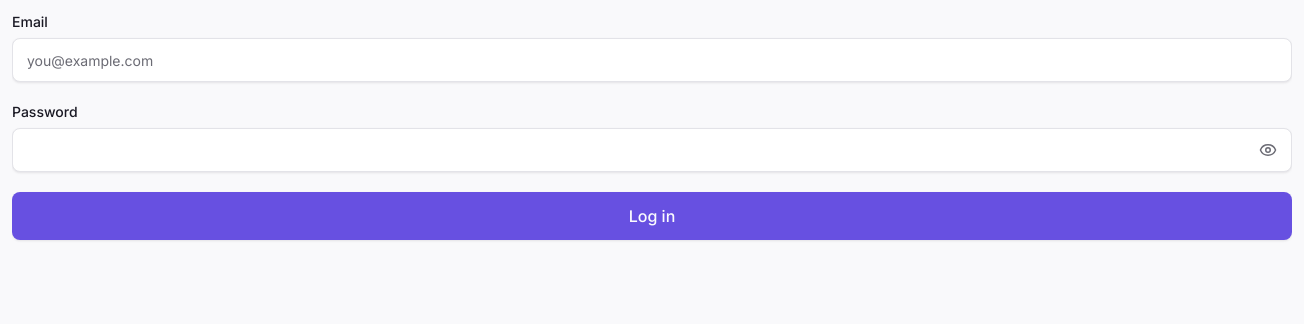
Test: LoginForm server errors › explains rate limiting using Retry-After
Type "jane@example.com" into the field labelled "Email". click: point(652, 60)
box: [12,38,1292,82]
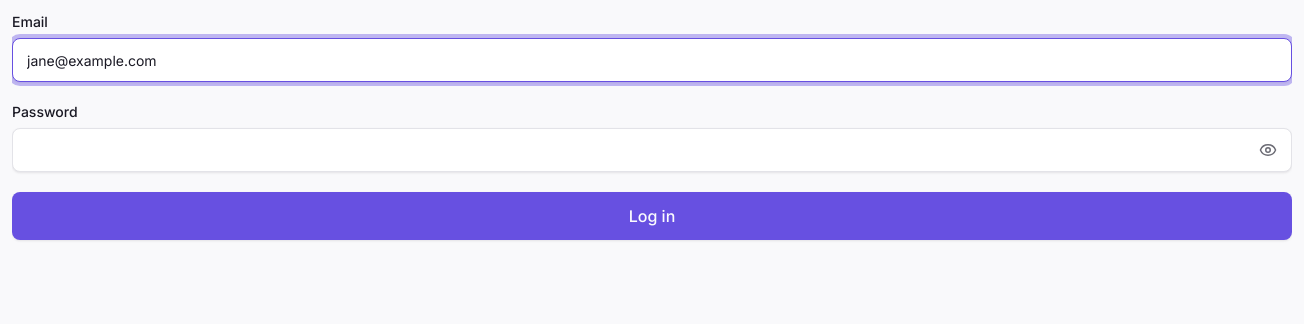
Type "long-enough-password" into the password field labelled "Password". click: point(652, 150)
box: [12,128,1292,172]
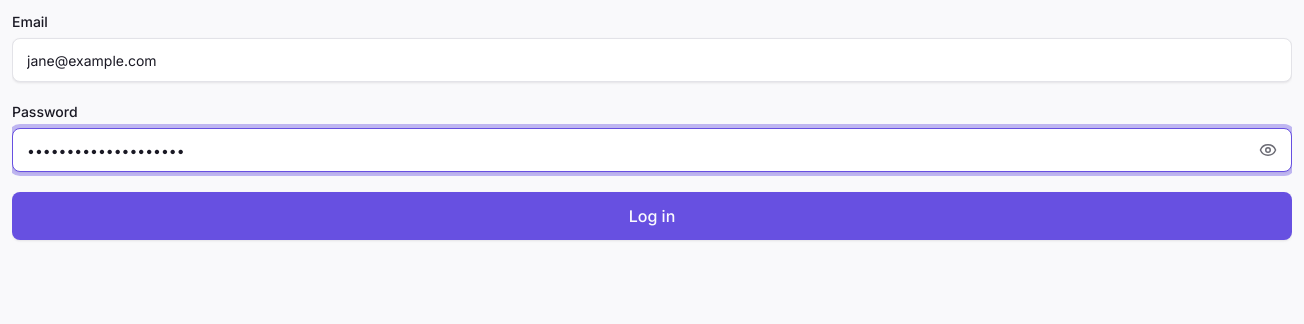
Click the button "Log in". click: point(652, 216)
box: [12,192,1292,240]
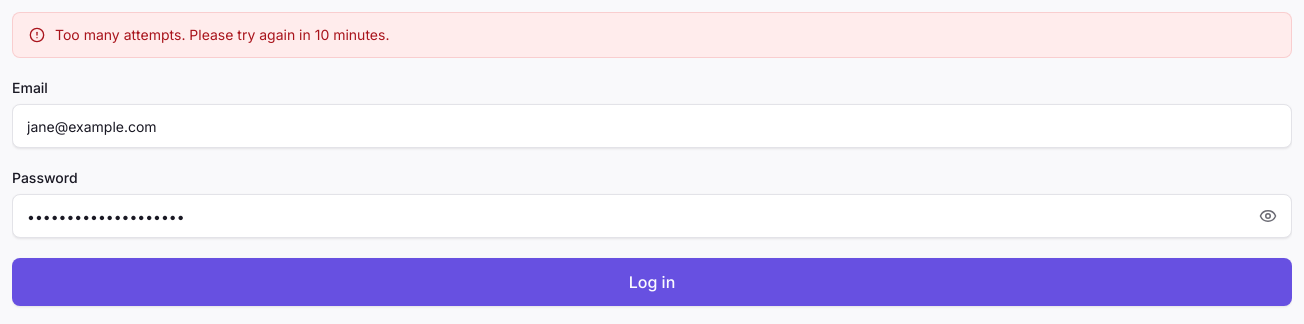
Expected: the message reads "Too many attempts. Please try again in 10 minutes.", [55,26,389,43]
